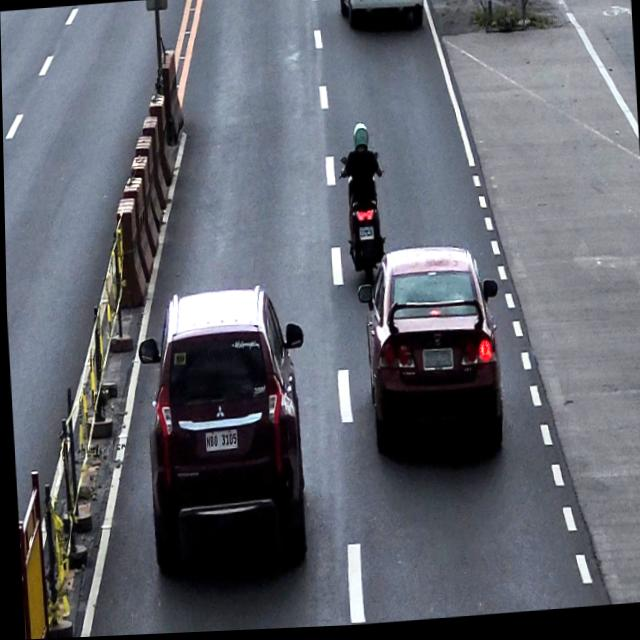Car: (134, 284, 314, 582), (354, 245, 506, 469), (334, 0, 427, 42)
License-Plate: (201, 432, 237, 455), (421, 351, 452, 376), (358, 231, 373, 243)
Motorcycle: (338, 150, 386, 277)
